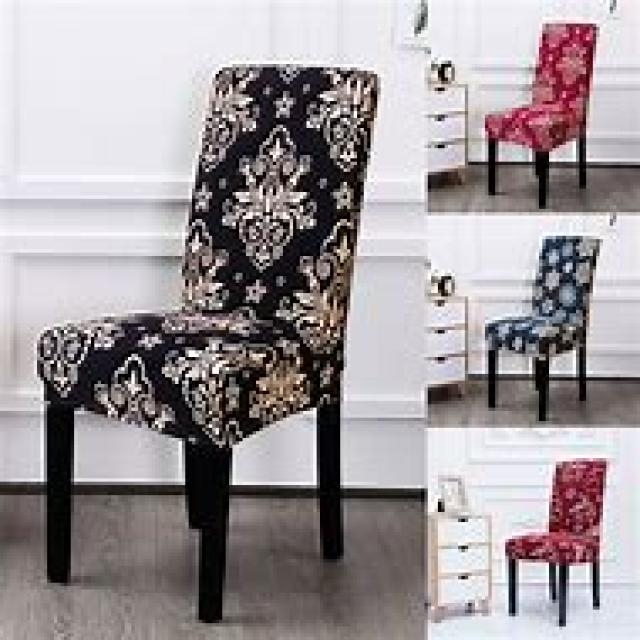chair: (33, 61, 380, 620), (482, 232, 600, 421), (482, 20, 596, 206), (502, 454, 606, 626)
